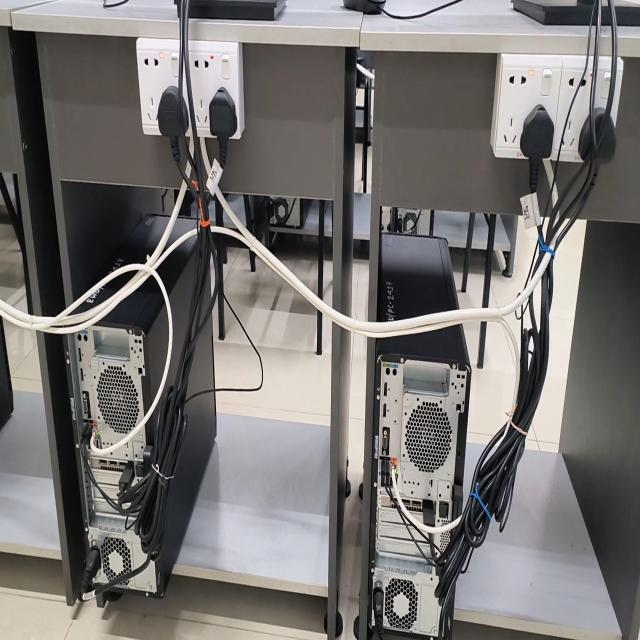Cpu: (81, 235, 217, 606), (359, 324, 471, 636), (66, 278, 168, 449), (378, 234, 458, 320), (93, 210, 169, 281)
